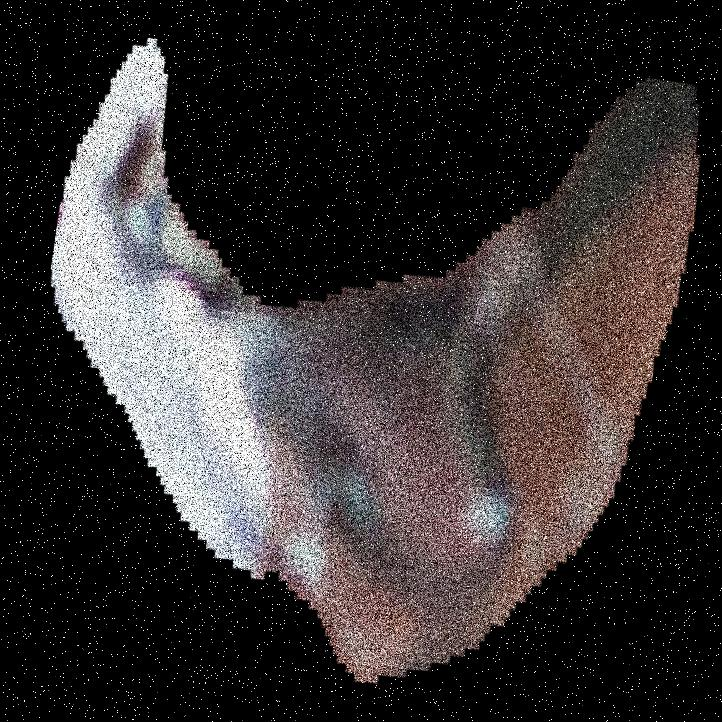Oculos: (338, 0, 647, 721)
